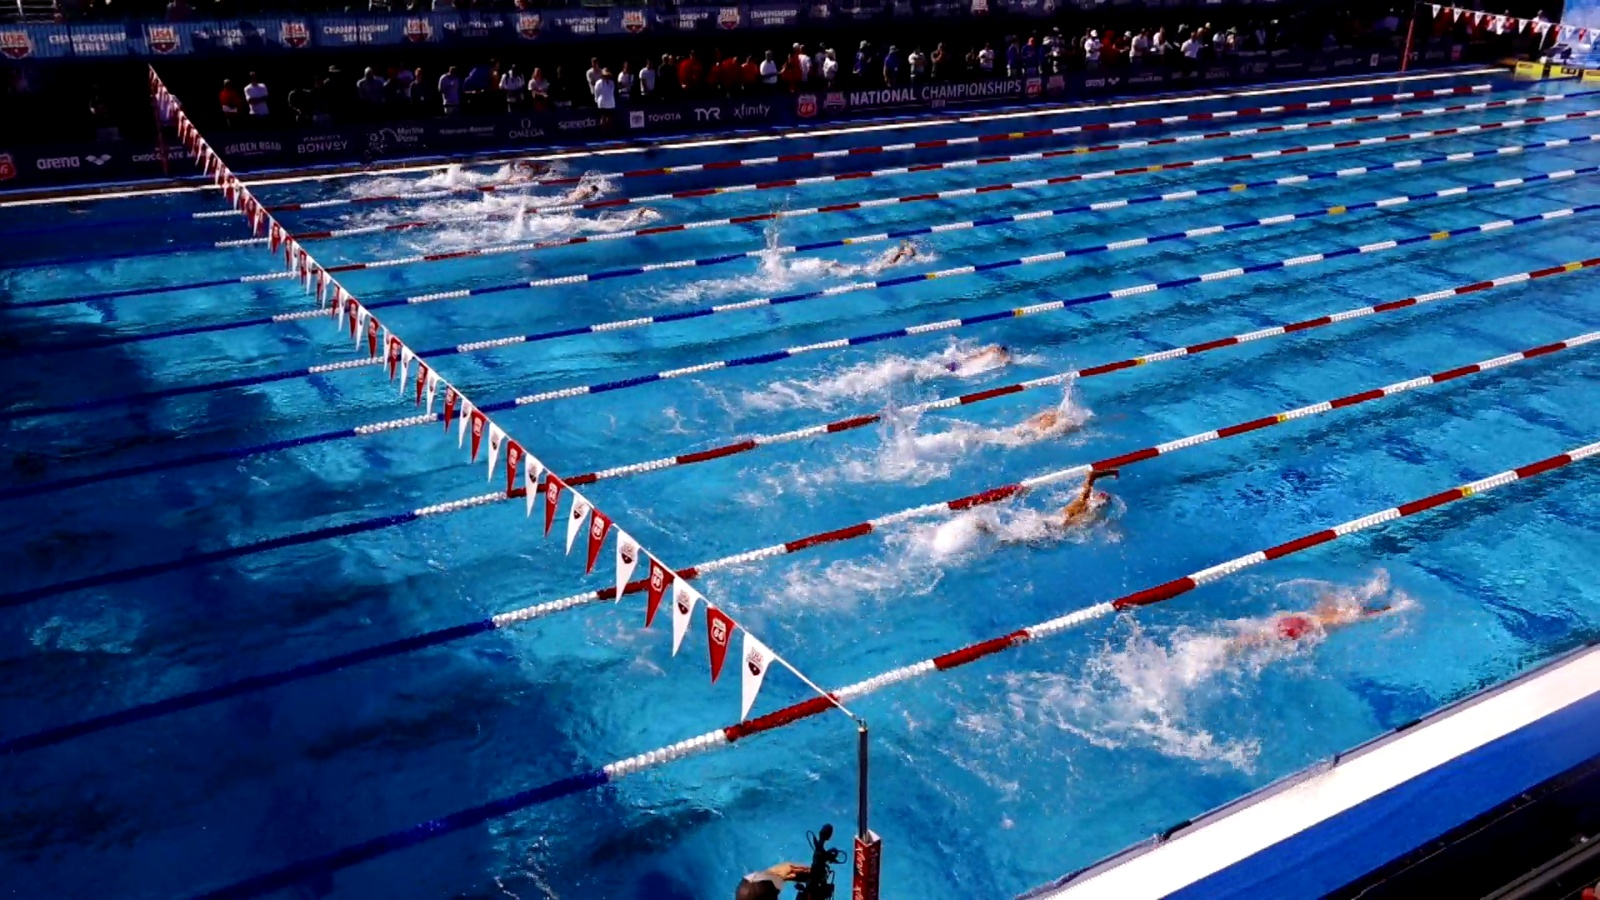swimmerw: (1193, 576, 1405, 676), (946, 465, 1133, 575), (974, 401, 1097, 455), (910, 341, 1018, 384), (558, 207, 662, 238), (829, 244, 925, 275), (522, 182, 602, 214), (477, 162, 558, 186)
